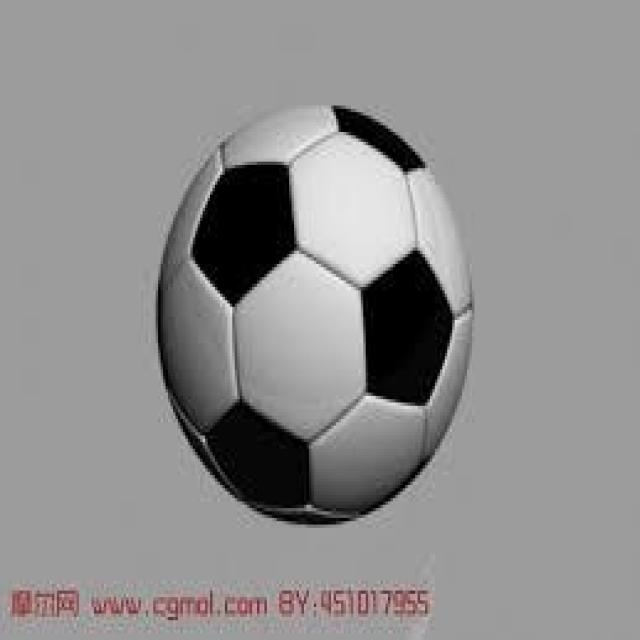Soccer Ball: (160, 102, 474, 525)
